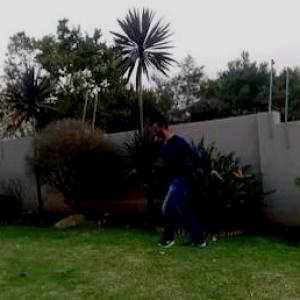land: (110, 100, 249, 270)
